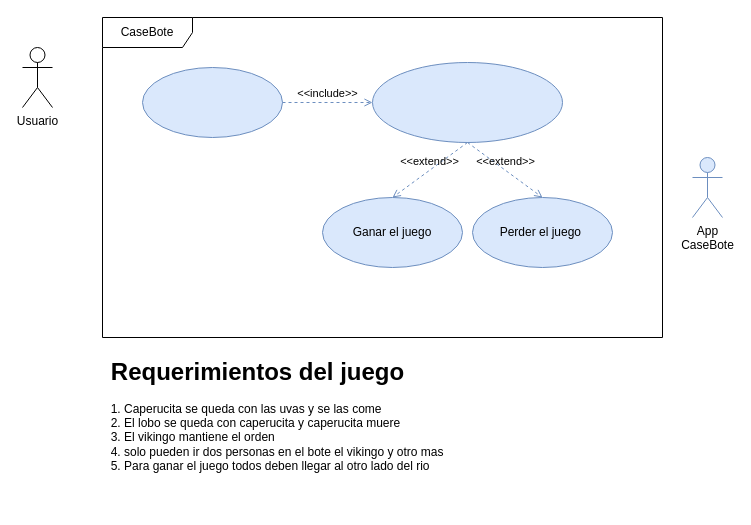
This 751x525 diagram has some shape labels left out. The box of each missing label's shape, as (x1, y1, x2, y2) in pixels:
Ingresar al juego " ": (142, 66, 282, 138)
Seleccionar con quien ira el vikingo en el bote al otro lado del rio: (372, 62, 562, 142)
